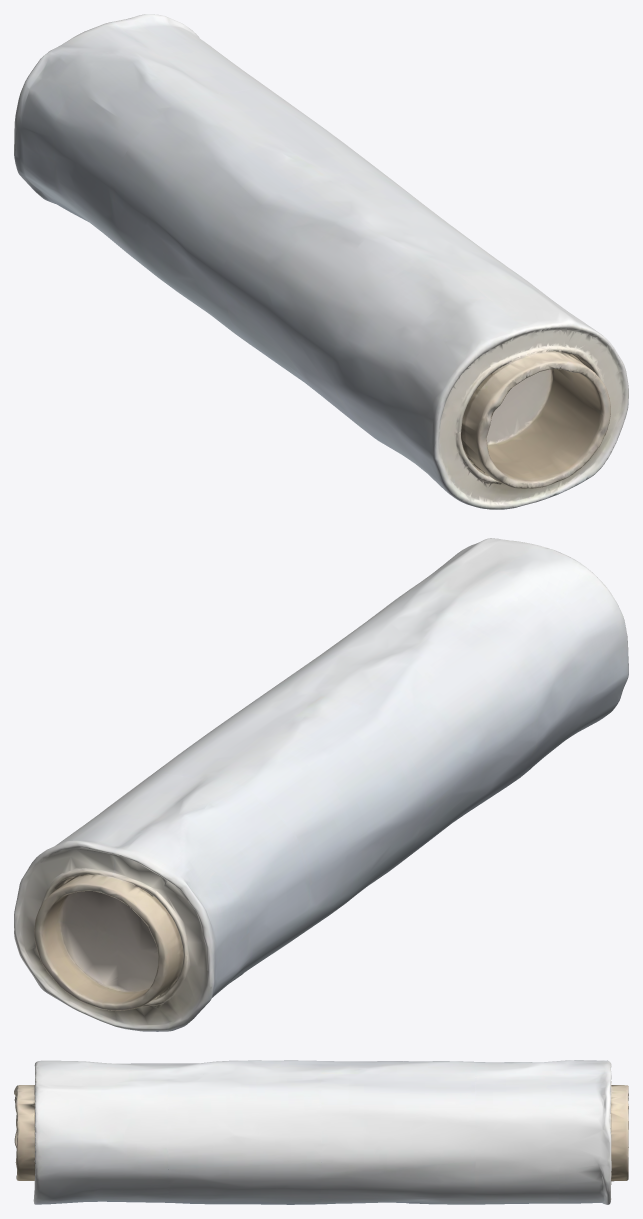
File: pmh-3041.glb
The picture shows the model from 3 angles, top to bottom: view 1: azimuth 30°, elevation 25°; view 2: azimuth 150°, elevation 25°; view 3: azimuth 270°, elevation 25°; orthographic projection. The views are drawn at different scales.
Parts seen in each view (by area): view 1: tripo_node_23598acf-e06b-4bc4-a4a8-97b6b46494d8; view 2: tripo_node_23598acf-e06b-4bc4-a4a8-97b6b46494d8; view 3: tripo_node_23598acf-e06b-4bc4-a4a8-97b6b46494d8.
Boxes of the visible parts, <box> form: tripo_node_23598acf-e06b-4bc4-a4a8-97b6b46494d8: <box>14,14,628,509</box>; tripo_node_23598acf-e06b-4bc4-a4a8-97b6b46494d8: <box>14,538,628,1031</box>; tripo_node_23598acf-e06b-4bc4-a4a8-97b6b46494d8: <box>14,1060,628,1204</box>.
Size of the model in its own units: 0.2617 by 0.2252 by 0.9999.
1 material, 1 textured.
